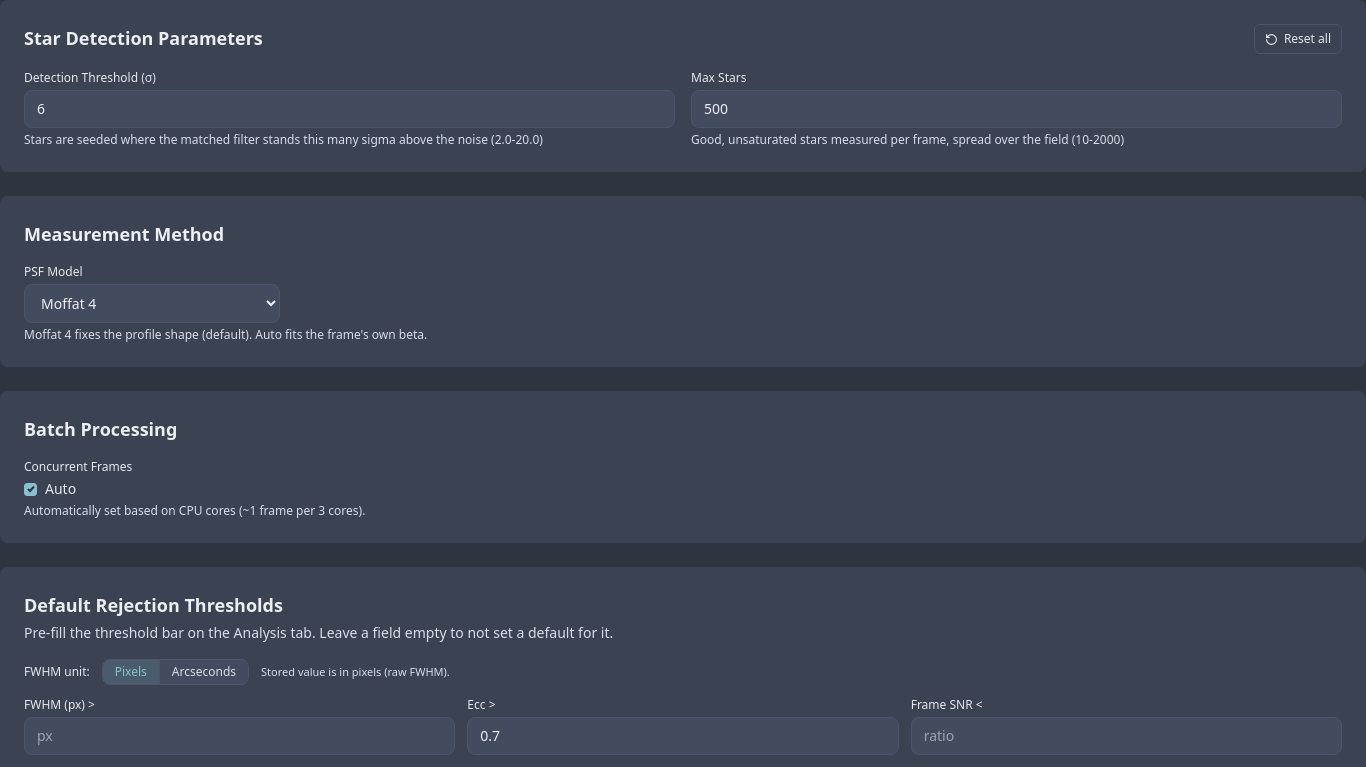
Test: AnalysisSettingsPanel › restores the draft on Escape without committing
Replace the text in the number field showing "500" below "Max Stars" with "999" at (1016, 109), box [691,90,1342,128]
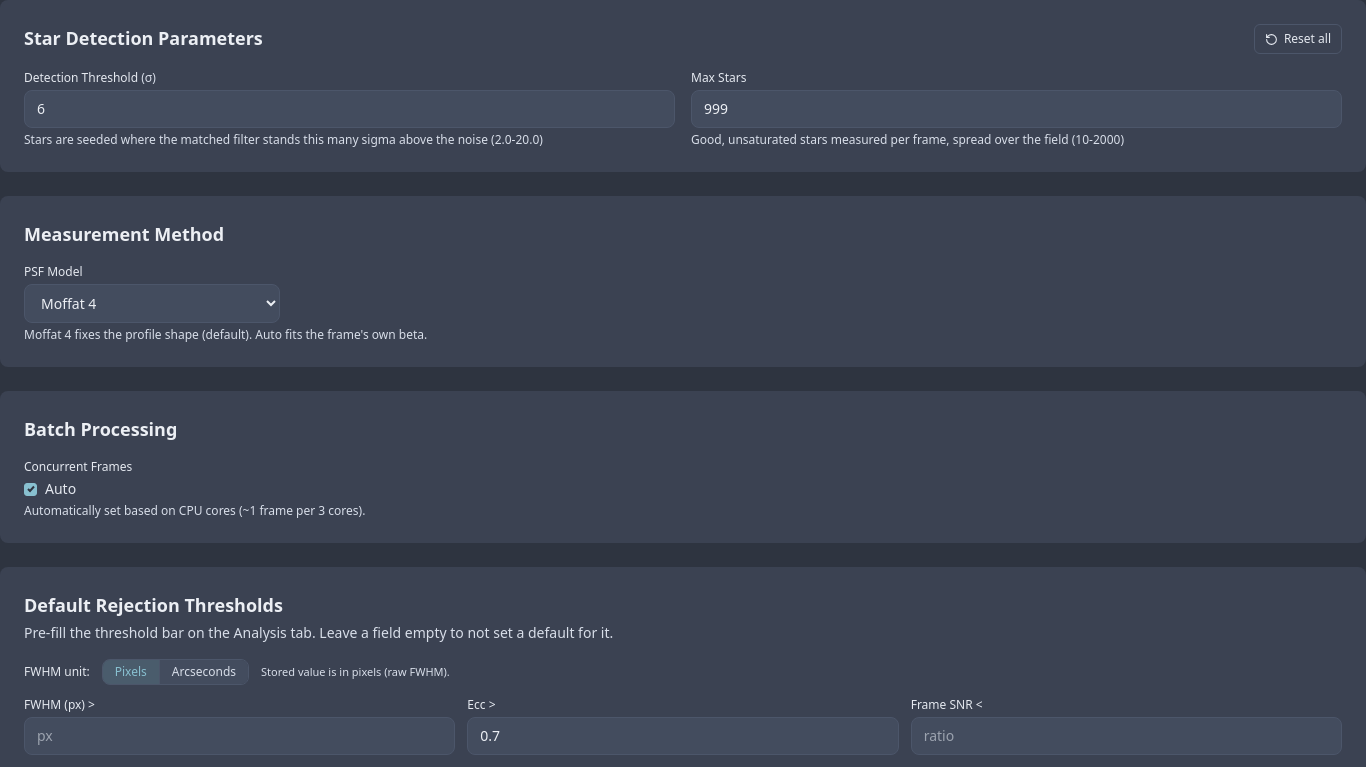
Press Escape in the number field showing "500" below "Max Stars", box [691,90,1342,128]
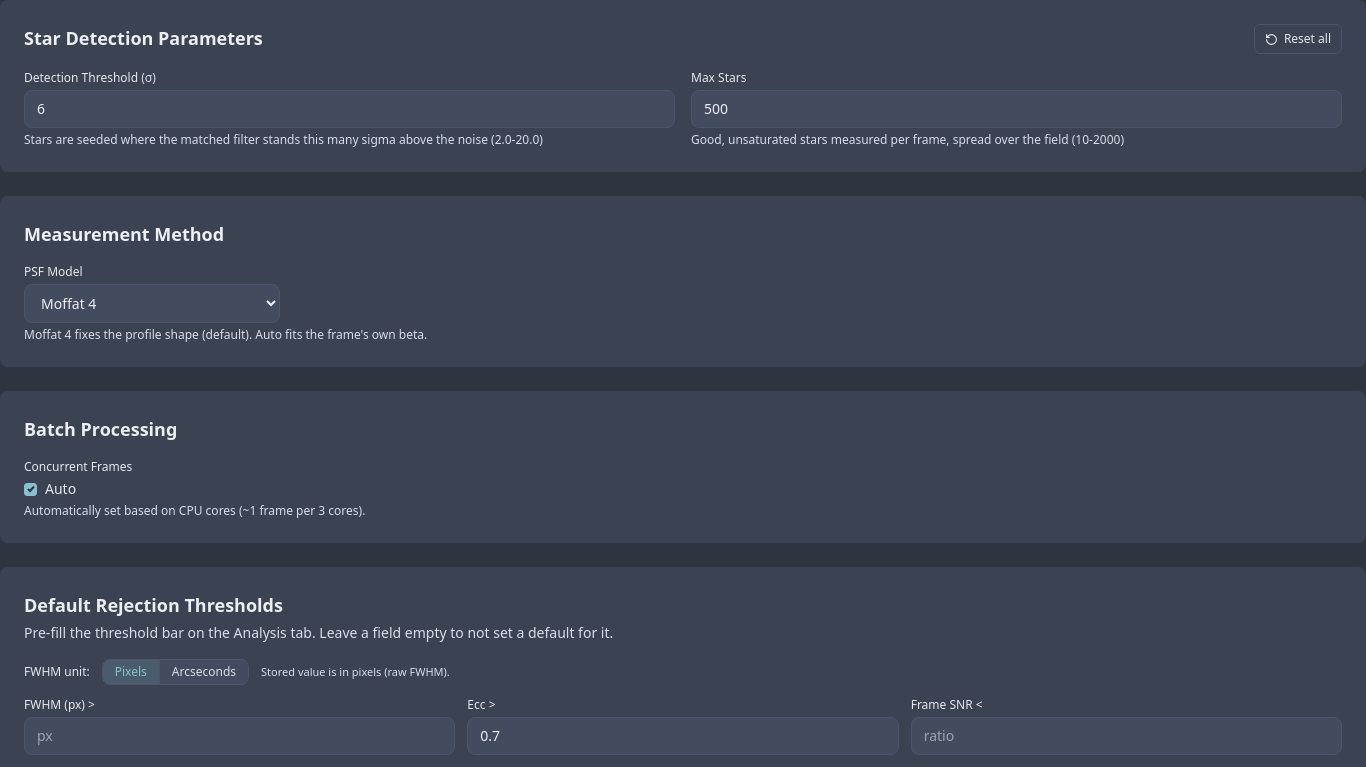
Result: the number field showing "500" below "Max Stars" holds "500" at [691,90,1342,128]
